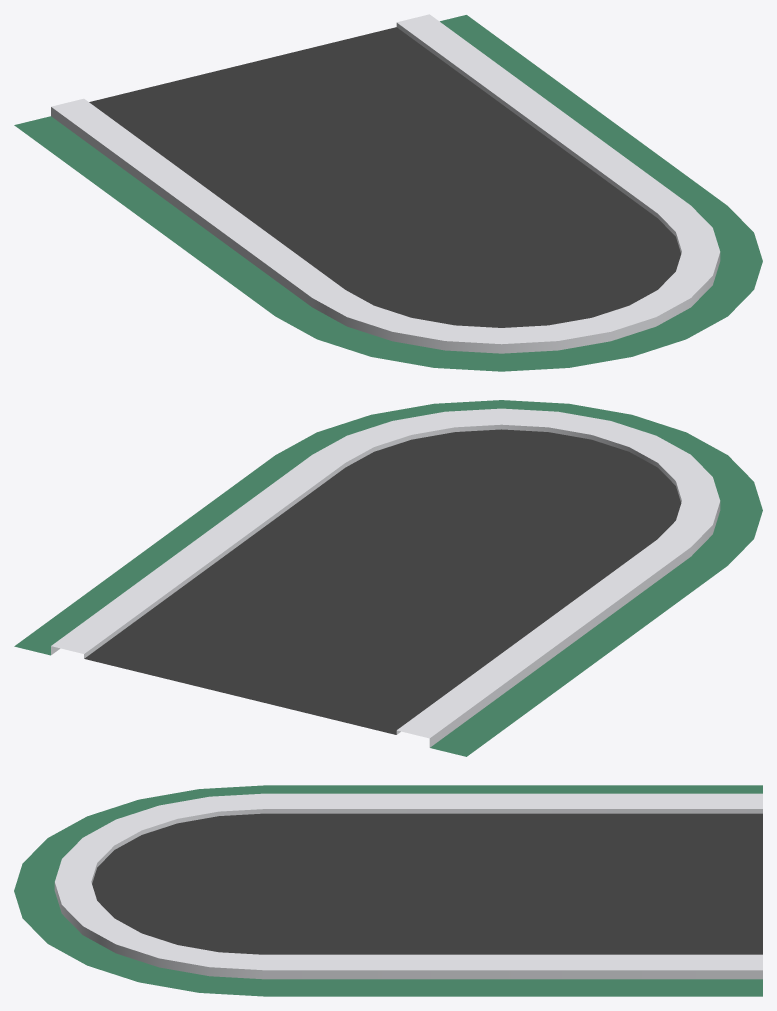
The model's file is roadEnd.obj.
The picture shows the model from 3 angles, top to bottom: view 1: azimuth 30°, elevation 25°; view 2: azimuth 150°, elevation 25°; view 3: azimuth 270°, elevation 25°; orthographic projection. The views are drawn at different scales.
Parts seen in each view (by area): view 1: roadEnd; view 2: roadEnd; view 3: roadEnd.
Part boxes in pixels (x1,y1,x2,y2): roadEnd: (14, 14, 762, 371); roadEnd: (14, 400, 762, 756); roadEnd: (14, 785, 762, 996).
Size of the model in its own units: 1 by 0.02 by 1.5.
